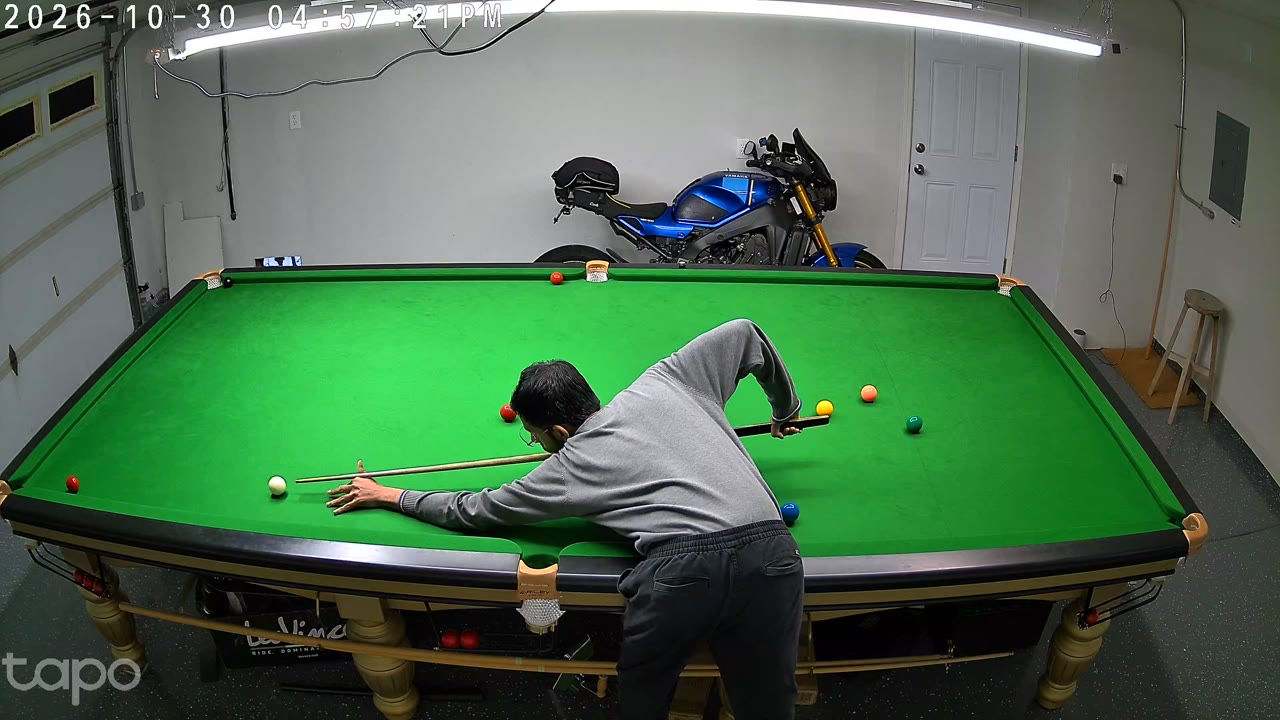blue: (781, 500, 799, 528)
green: (906, 414, 922, 435)
pink: (860, 384, 876, 404)
red: (500, 402, 515, 424), (66, 474, 80, 497), (551, 271, 562, 287)
white: (268, 473, 287, 502)
yellow: (816, 400, 832, 423)
